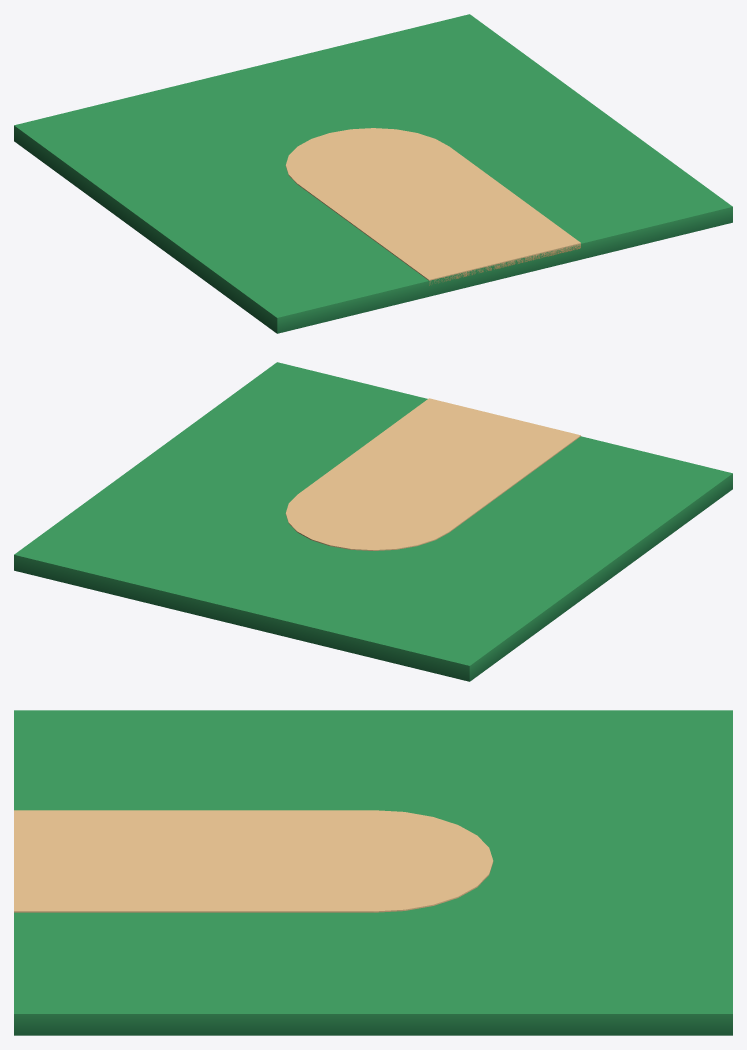
Rendered from camino_fin.glb.
The picture shows the model from 3 angles, top to bottom: view 1: azimuth 30°, elevation 25°; view 2: azimuth 150°, elevation 25°; view 3: azimuth 270°, elevation 25°; orthographic projection. The views are drawn at different scales.
Visible parts, largest first — view 1: camino_fin; view 2: camino_fin; view 3: camino_fin.
Part boxes in pixels (bbox=[...]): camino_fin: bbox=[14, 14, 732, 333]; camino_fin: bbox=[14, 362, 732, 681]; camino_fin: bbox=[14, 710, 732, 1035].
Bounding box in the file's own units: 6 × 0.212 × 6.
1 material, 1 textured.
